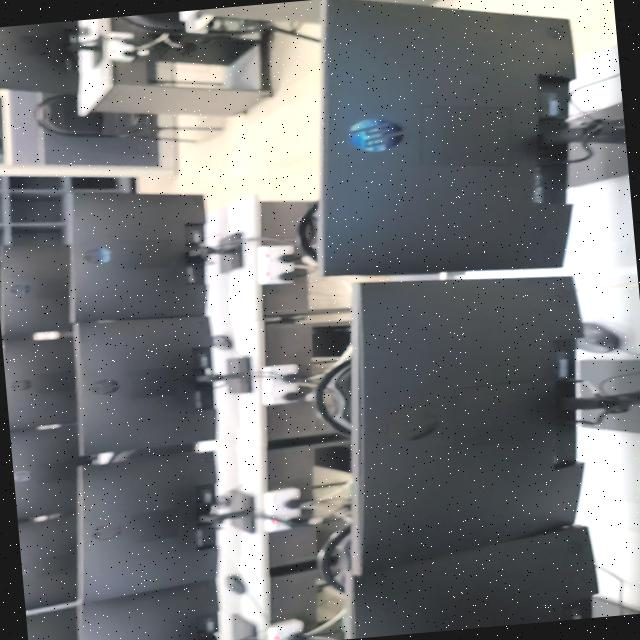Chair: (33, 94, 218, 139), (312, 343, 351, 436), (316, 524, 352, 592), (295, 202, 317, 262), (120, 11, 182, 31)
Cpu: (148, 32, 260, 65), (114, 17, 157, 45), (310, 326, 348, 357), (313, 446, 350, 473)
Monitor: (317, 0, 574, 275), (351, 277, 581, 574), (347, 527, 596, 639), (78, 452, 214, 600), (74, 316, 213, 454), (69, 191, 203, 322), (77, 580, 214, 640), (9, 424, 86, 518), (1, 337, 75, 430), (0, 237, 68, 334), (0, 20, 76, 94), (16, 515, 74, 608), (25, 607, 76, 640)
Mouse: (317, 0, 574, 275), (575, 322, 618, 353), (223, 575, 244, 594), (211, 335, 230, 349)
